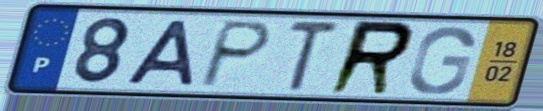8: (71, 15, 134, 86)
A: (123, 18, 199, 88)
G: (405, 24, 478, 97)
P: (194, 18, 276, 90)
R: (323, 18, 419, 98)
T: (282, 18, 343, 94)
